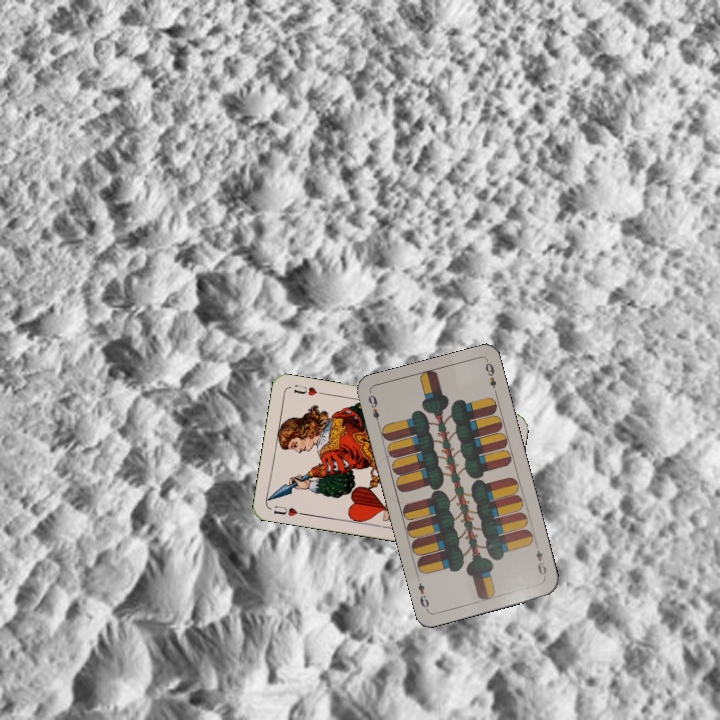E9: (364, 391, 383, 429), (532, 545, 549, 581)
HU: (270, 502, 307, 519)
